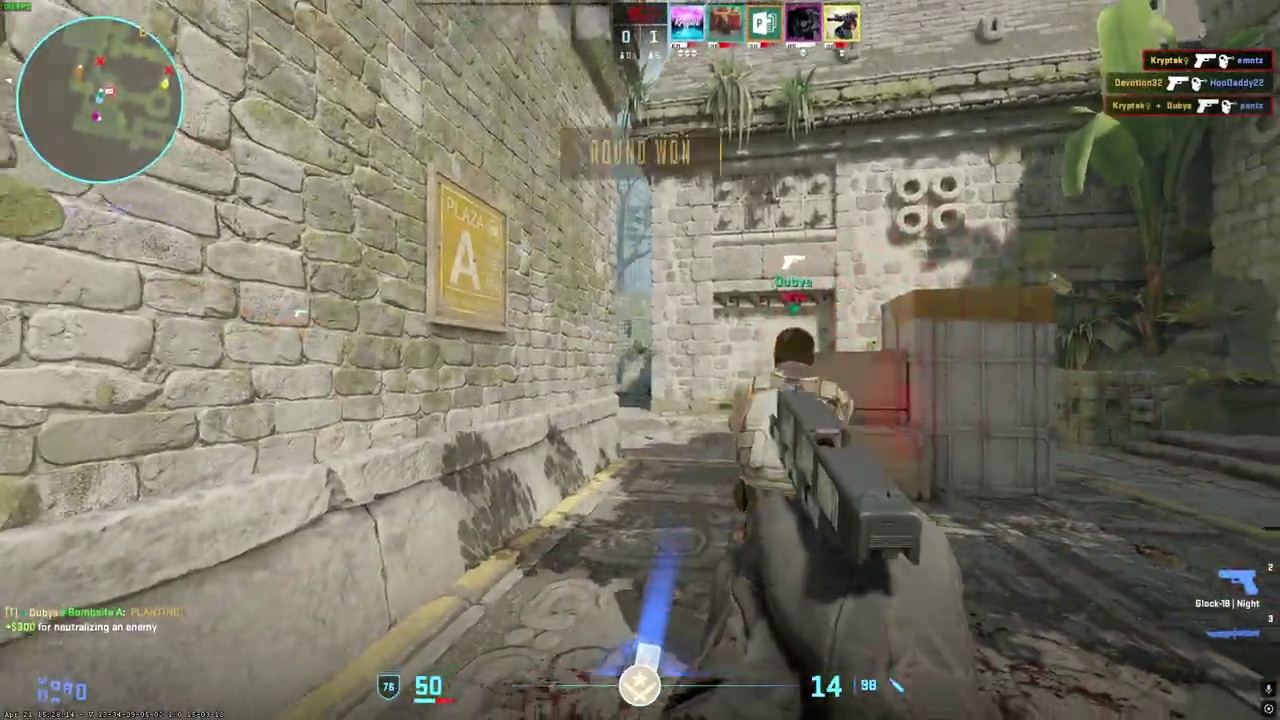Terrorist: (728, 327, 854, 517)
